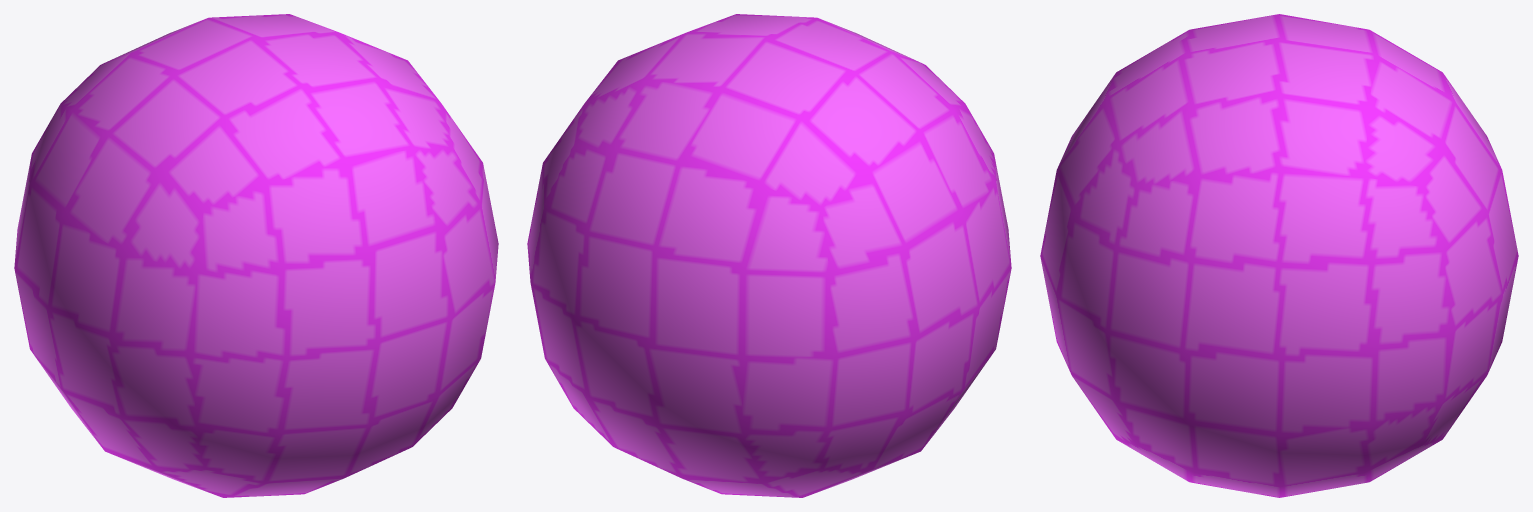
The model's file is ball.obj.
3 renders of one model, left to right at view 1: azimuth 30°, elevation 25°; view 2: azimuth 150°, elevation 25°; view 3: azimuth 270°, elevation 25°, orthographic.
Visible parts, largest first — view 1: Cube; view 2: Cube; view 3: Cube.
Boxes of the visible parts, <box> form: Cube: <box>14,14,498,497</box>; Cube: <box>527,14,1011,497</box>; Cube: <box>1040,14,1518,497</box>.
Bounding box in the file's own units: 1.68 × 1.68 × 1.68.
